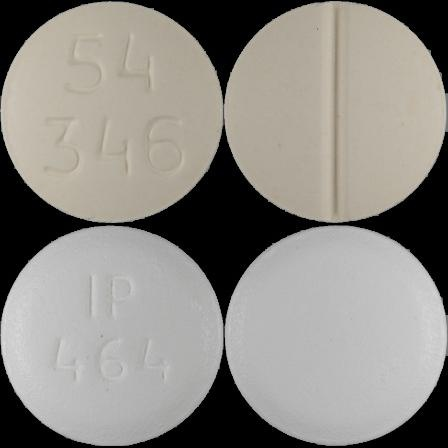68084-655: (0, 0, 224, 224)
